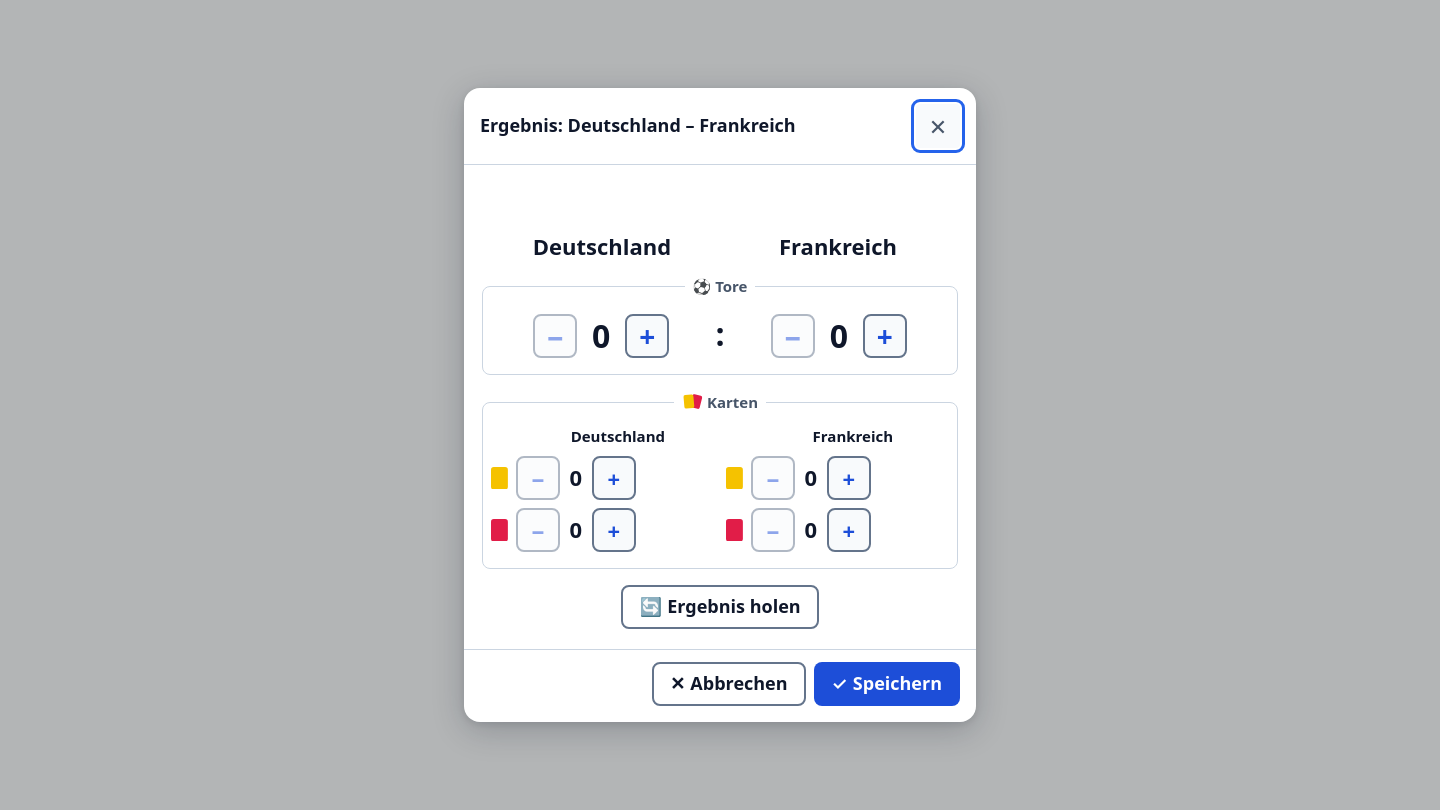
Test: ScoreDialog › live result fetch › shows the error message when the fetch fails
Click the button "🔄 Ergebnis holen" at (720, 607), box [621,585,819,629]
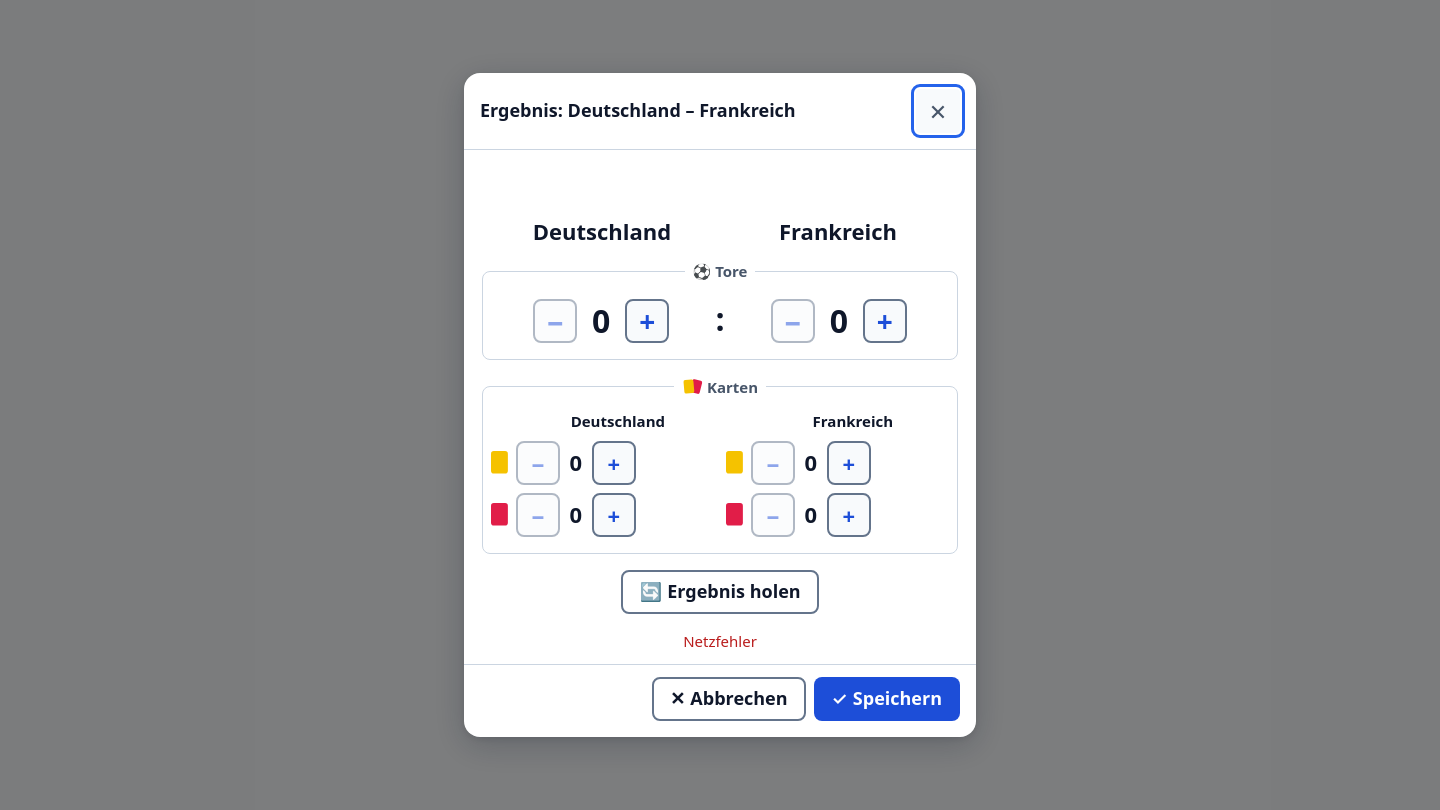
Expected: the message "Netzfehler" is shown, [683,631,757,651]
